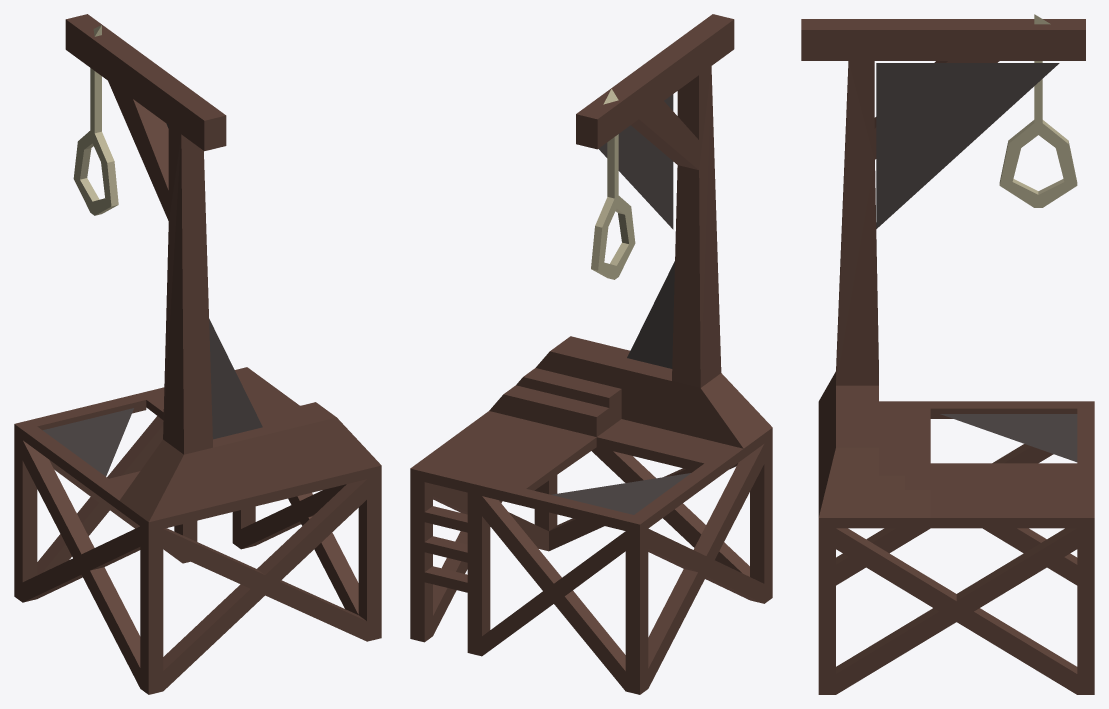
The model's file is obj_ancient_gallows_0.obj.
3 views of the same model, side by side, from view 1: azimuth 30°, elevation 25°; view 2: azimuth 150°, elevation 25°; view 3: azimuth 270°, elevation 25° (orthographic). The views are drawn at different scales.
Size of the model in its own units: 1.5 by 3.56 by 1.59.
